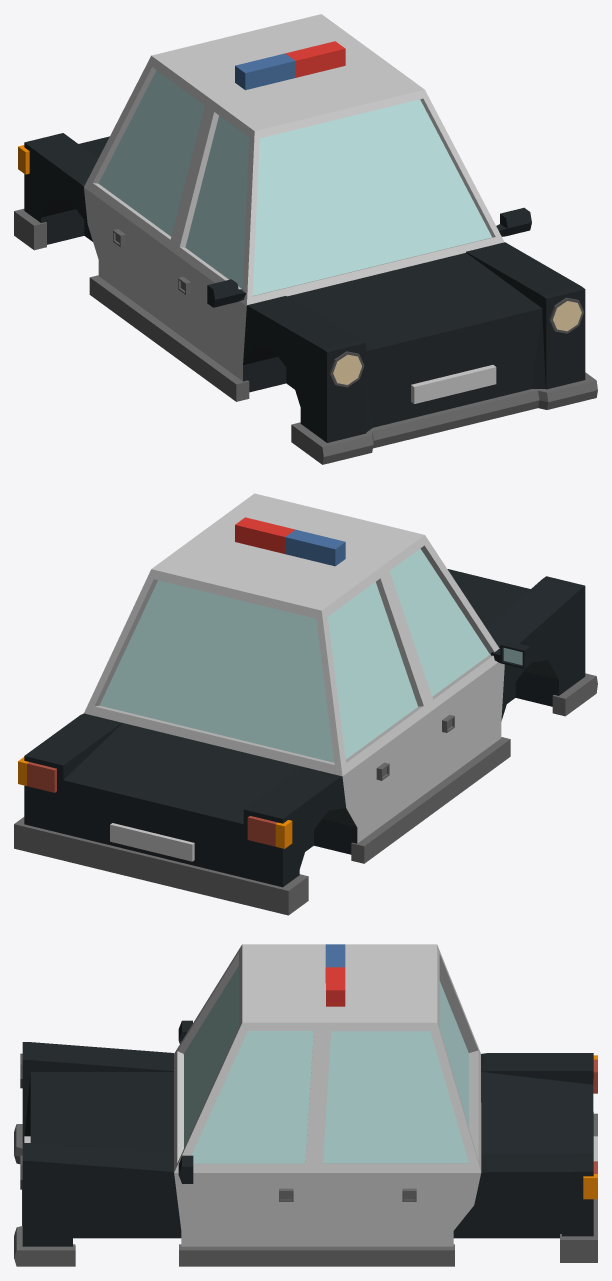
The model's file is Car_09.fbx.
The picture shows the model from 3 angles, top to bottom: view 1: azimuth 30°, elevation 25°; view 2: azimuth 150°, elevation 25°; view 3: azimuth 270°, elevation 25°; orthographic projection. The views are drawn at different scales.
Parts seen in each view (by area): view 1: Car_09; view 2: Car_09; view 3: Car_09.
Part boxes in pixels (x1=…): Car_09: x1=14, y1=14, x2=597, y2=464; Car_09: x1=14, y1=493, x2=597, y2=915; Car_09: x1=14, y1=944, x2=597, y2=1266.
Size of the model in its own units: 197 by 149 by 333.
